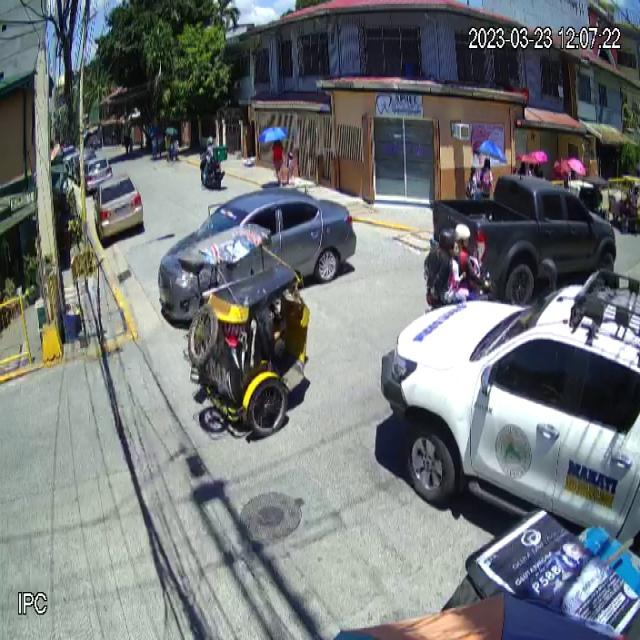Car: (379, 269, 640, 553), (431, 174, 619, 307)
Tricycle: (180, 222, 312, 439)
